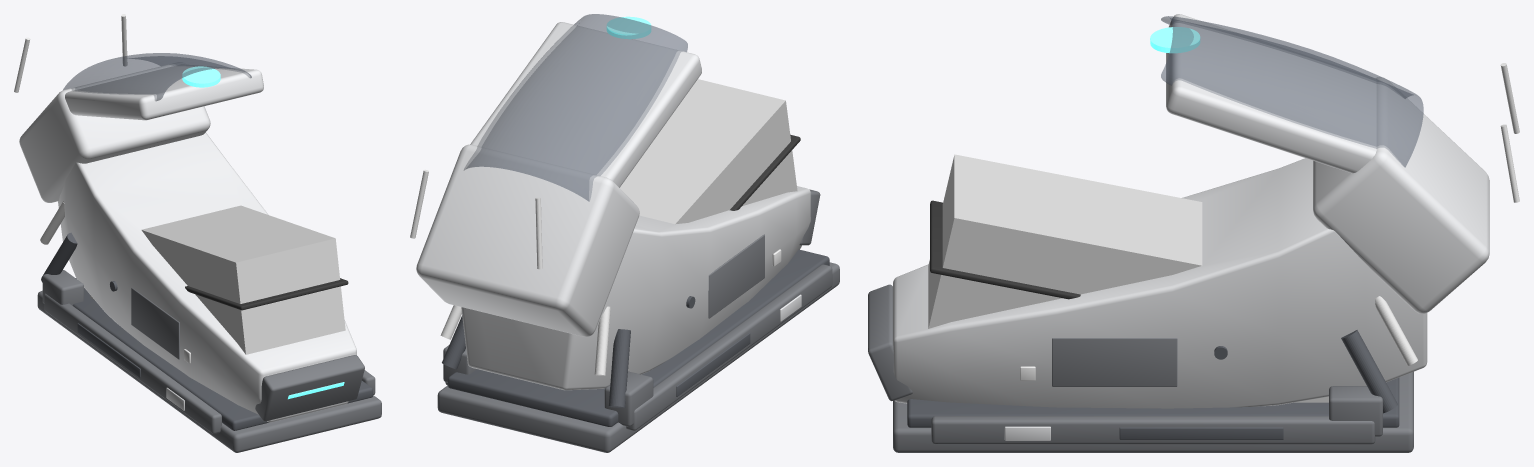
Rendered from cryo_stasis_pod.glb.
The picture shows the model from 3 angles, left to right: view 1: azimuth 30°, elevation 25°; view 2: azimuth 150°, elevation 25°; view 3: azimuth 270°, elevation 25°; orthographic projection. The views are drawn at different scales.
Visible parts, largest first — view 1: Pod_SurgicalHull, Surgical_Cockpit_Cutter, Canopy_RearHelmet, Canopy_ForwardArchFrame, Canopy_TintedVisorGlass, Hull_FrontBumperShield, Base_Foundation, Base_SideSkirt_-1, Base_RunnerPlate, Hull_SidePanel_A_-1, Cockpit_SealGasket, Rear_HydraulicBracket_-1 (+4 smaller); view 2: Canopy_RearHelmet, Pod_SurgicalHull, Canopy_ForwardArchFrame, Canopy_TintedVisorGlass, Surgical_Cockpit_Cutter, Base_RunnerPlate, Base_Foundation, Base_SideSkirt_-1, Hull_SidePanel_A_-1, Rear_Cylinder_-1, Rear_HydraulicBracket_-1, Base_VentStrip_-1 (+8 smaller); view 3: Pod_SurgicalHull, Surgical_Cockpit_Cutter, Canopy_RearHelmet, Canopy_ForwardArchFrame, Canopy_TintedVisorGlass, Base_SideSkirt_1, Base_Foundation, Hull_SidePanel_A_1, Base_RunnerPlate, Hull_FrontBumperShield, Base_VentStrip_1, Cockpit_SealGasket (+5 smaller).
Boxes of the visible parts, bbox=[...] form: Pod_SurgicalHull: bbox=[58, 132, 356, 422]; Surgical_Cockpit_Cutter: bbox=[90, 205, 345, 354]; Canopy_RearHelmet: bbox=[19, 62, 210, 202]; Canopy_ForwardArchFrame: bbox=[65, 64, 263, 120]; Canopy_TintedVisorGlass: bbox=[63, 53, 251, 101]; Hull_FrontBumperShield: bbox=[255, 355, 364, 421]; Base_Foundation: bbox=[37, 290, 381, 452]; Base_SideSkirt_-1: bbox=[44, 293, 221, 433]; Base_RunnerPlate: bbox=[72, 278, 372, 430]; Hull_SidePanel_A_-1: bbox=[131, 287, 179, 359]; Cockpit_SealGasket: bbox=[185, 278, 348, 310]; Rear_HydraulicBracket_-1: bbox=[42, 270, 83, 305]; Canopy_RearHelmet: bbox=[416, 144, 639, 336]; Pod_SurgicalHull: bbox=[461, 186, 810, 390]; Canopy_ForwardArchFrame: bbox=[470, 22, 701, 187]; Canopy_TintedVisorGlass: bbox=[464, 14, 687, 201]; Surgical_Cockpit_Cutter: bbox=[620, 79, 797, 224]; Base_RunnerPlate: bbox=[448, 249, 829, 426]; Base_Foundation: bbox=[437, 262, 839, 452]; Base_SideSkirt_-1: bbox=[626, 264, 832, 430]; Hull_SidePanel_A_-1: bbox=[708, 234, 764, 318]; Rear_Cylinder_-1: bbox=[608, 329, 630, 407]; Rear_HydraulicBracket_-1: bbox=[604, 371, 653, 426]; Base_VentStrip_-1: bbox=[676, 333, 750, 396]; Pod_SurgicalHull: bbox=[893, 158, 1427, 408]; Surgical_Cockpit_Cutter: bbox=[928, 154, 1328, 402]; Canopy_RearHelmet: bbox=[1313, 77, 1489, 313]; Canopy_ForwardArchFrame: bbox=[1166, 14, 1376, 173]; Canopy_TintedVisorGlass: bbox=[1161, 16, 1423, 167]; Base_SideSkirt_1: bbox=[931, 416, 1375, 444]; Base_Foundation: bbox=[893, 371, 1413, 452]; Hull_SidePanel_A_1: bbox=[1052, 338, 1177, 386]; Base_RunnerPlate: bbox=[907, 377, 1399, 427]; Hull_FrontBumperShield: bbox=[868, 284, 912, 401]; Base_VentStrip_1: bbox=[1119, 427, 1283, 439]; Cockpit_SealGasket: bbox=[930, 200, 1080, 299].
Size of the model in its own units: 1.29 by 2.15 by 3.38.
